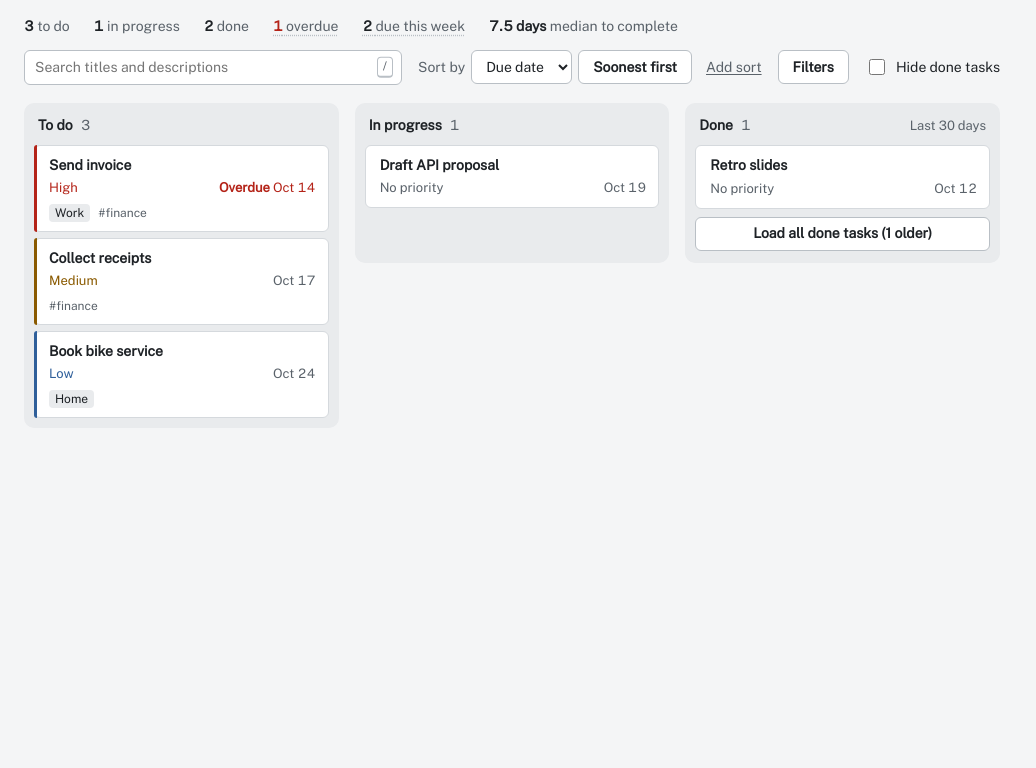
Board › explains how to get tags and categories when there are none
Click the button "Filters". click: (813, 67)
box: [778, 50, 849, 84]
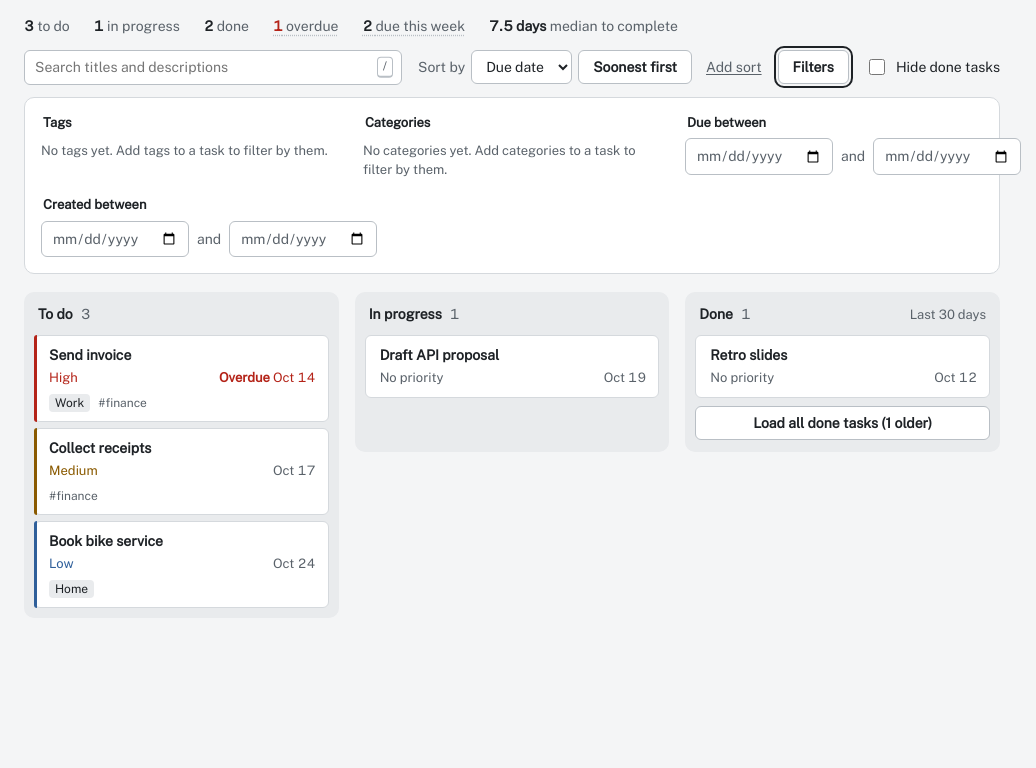
Now the text "No tags yet. Add tags to a task to filter by them." is shown, box [41, 142, 339, 161]
Now the text "No categories yet" is shown, box [363, 143, 636, 177]
